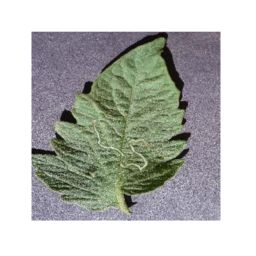liriomyza: (93, 119, 149, 171)
